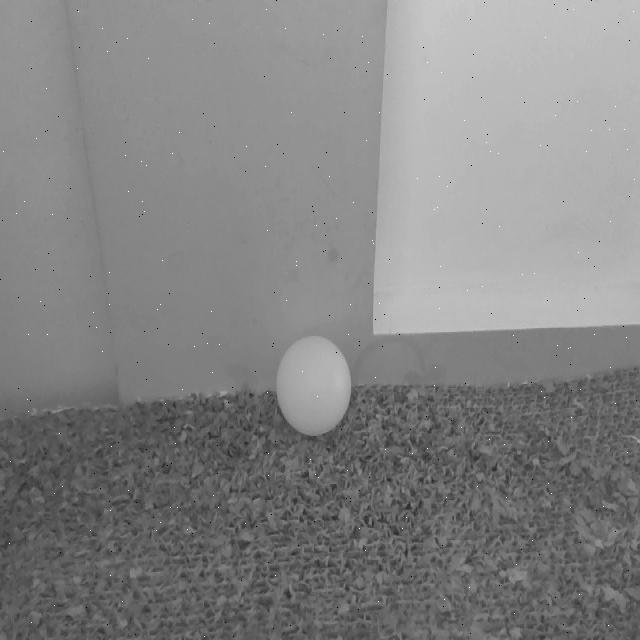ping-pong-ball: (274, 338, 352, 436)
